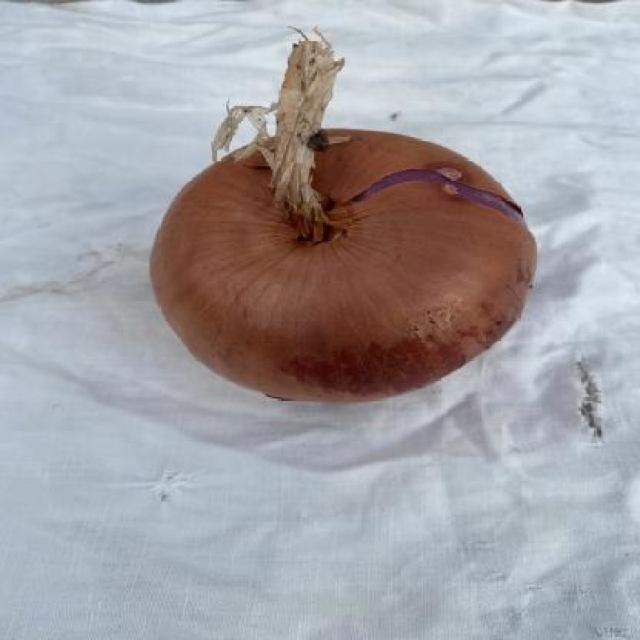Onion: (151, 37, 537, 401)
